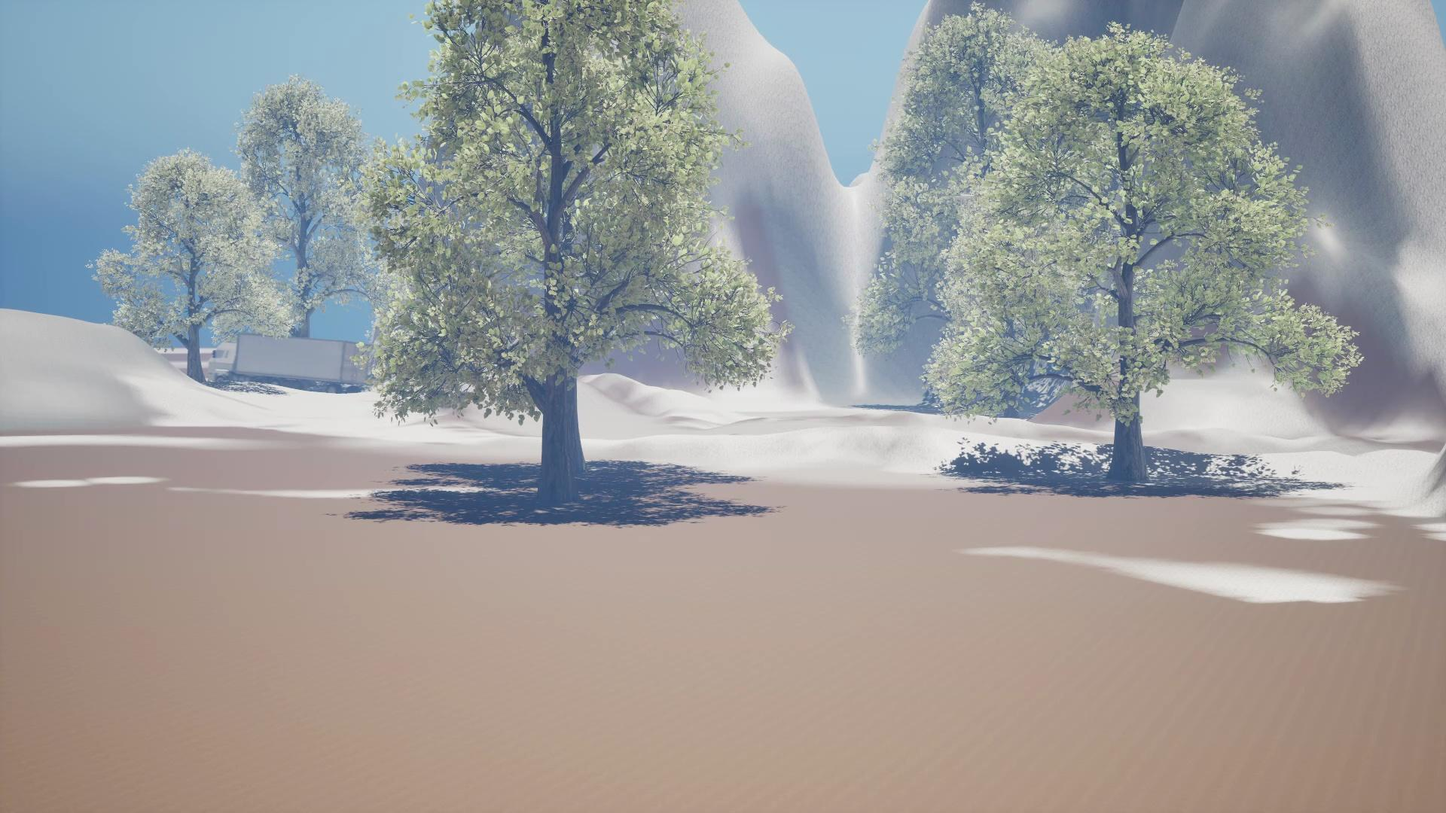truck: (208, 335, 368, 382)
